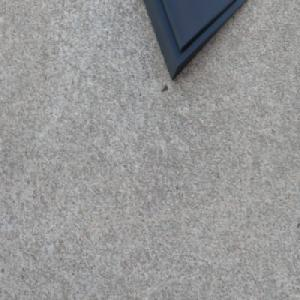PlasticPart: (139, 0, 247, 83)
